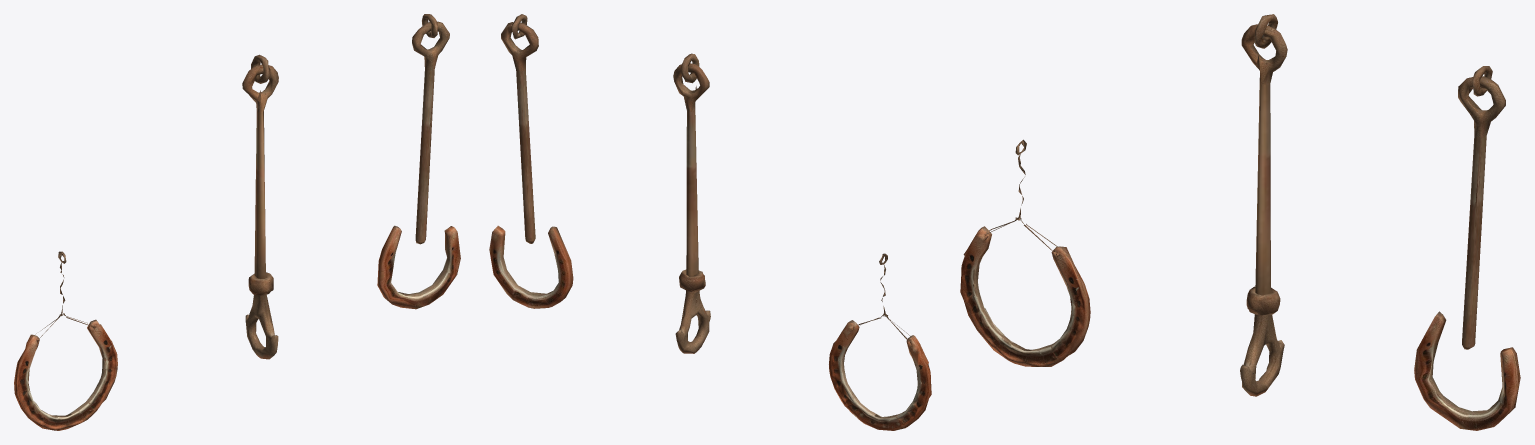
File: iron_tools_horseshoe.glb
3 renders of one model, left to right at view 1: azimuth 30°, elevation 25°; view 2: azimuth 150°, elevation 25°; view 3: azimuth 330°, elevation 25°, orthographic. The views are drawn at different scales.
Size of the model in its own units: 0.9522 by 0.671 by 0.1132.
1 material, 1 textured.
